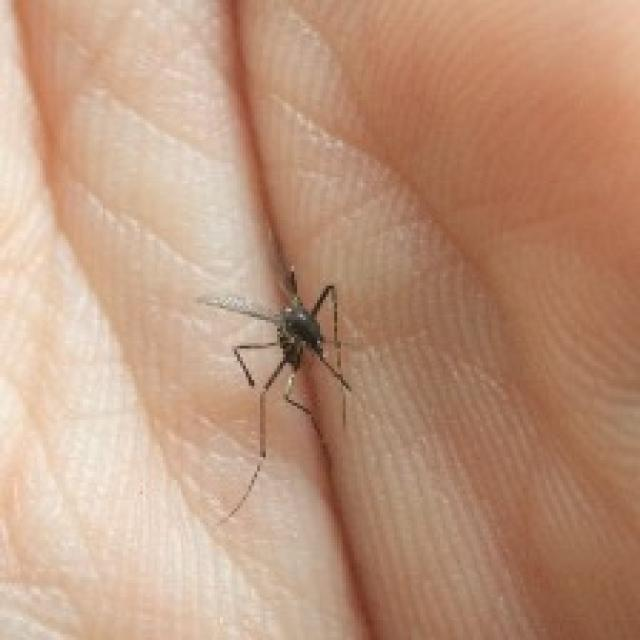aedes: (197, 263, 352, 526)
